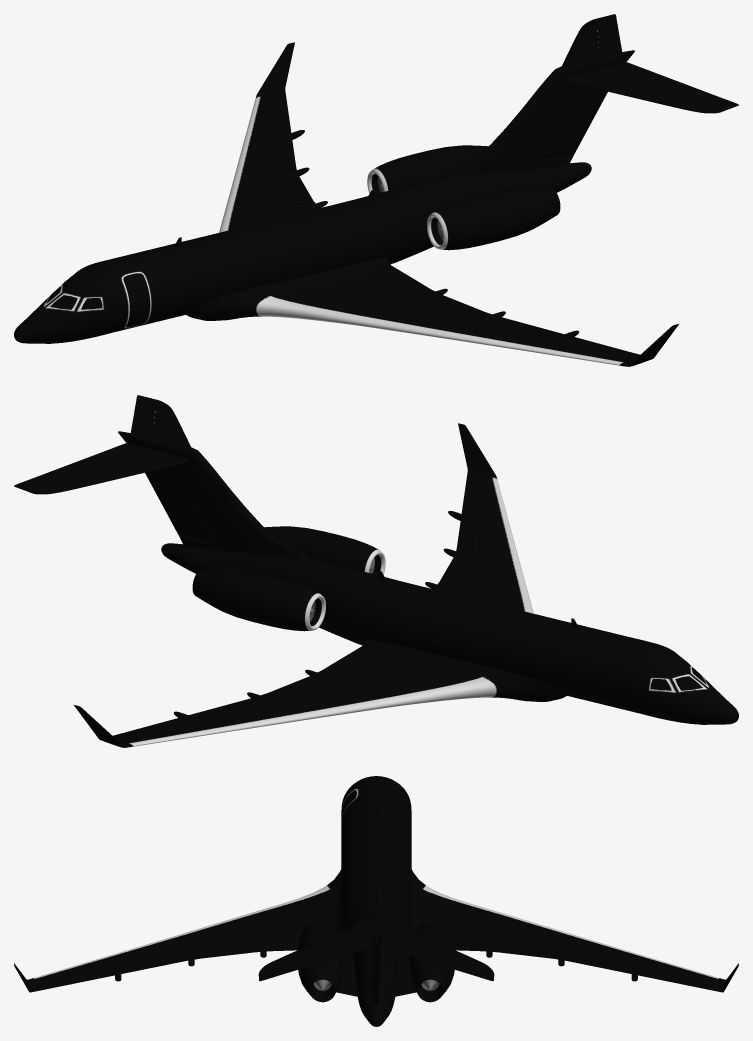
The model's file is jet.glb.
The picture shows the model from 3 angles, top to bottom: view 1: azimuth 30°, elevation 25°; view 2: azimuth 150°, elevation 25°; view 3: azimuth 270°, elevation 25°; orthographic projection. The views are drawn at different scales.
Parts seen in each view (by area): view 1: main_9, fin M_1, fin L_11, fin R_2, wing L 1_12; view 2: main_9, fin M_1, fin R_2, fin L_11, wing R 1_15; view 3: main_9, fin R_2, fin L_11, wing L 2_13, wing R 2_16.
Part boxes in pixels (x1=…): main_9: x1=14, y1=14, x2=738, y2=366; fin M_1: x1=536, y1=89, x2=607, y2=160; fin L_11: x1=605, y1=62, x2=725, y2=104; fin R_2: x1=597, y1=19, x2=622, y2=56; wing L 1_12: x1=375, y1=265, x2=430, y2=293; main_9: x1=14, y1=395, x2=738, y2=747; fin M_1: x1=145, y1=470, x2=216, y2=541; fin R_2: x1=27, y1=443, x2=147, y2=485; fin L_11: x1=130, y1=400, x2=155, y2=437; wing R 1_15: x1=322, y1=646, x2=377, y2=674; main_9: x1=14, y1=776, x2=738, y2=1026; fin R_2: x1=380, y1=936, x2=481, y2=977; fin L_11: x1=271, y1=936, x2=372, y2=977; wing L 2_13: x1=197, y1=944, x2=255, y2=958; wing R 2_16: x1=497, y1=944, x2=555, y2=958.
Bounding box in the file's own units: 26.22 × 6.26 × 26.4.
1 material, 1 textured.
